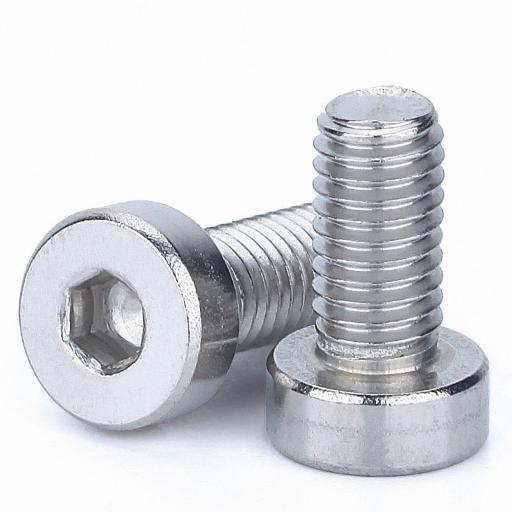Hex-Allen: (16, 198, 235, 434)
